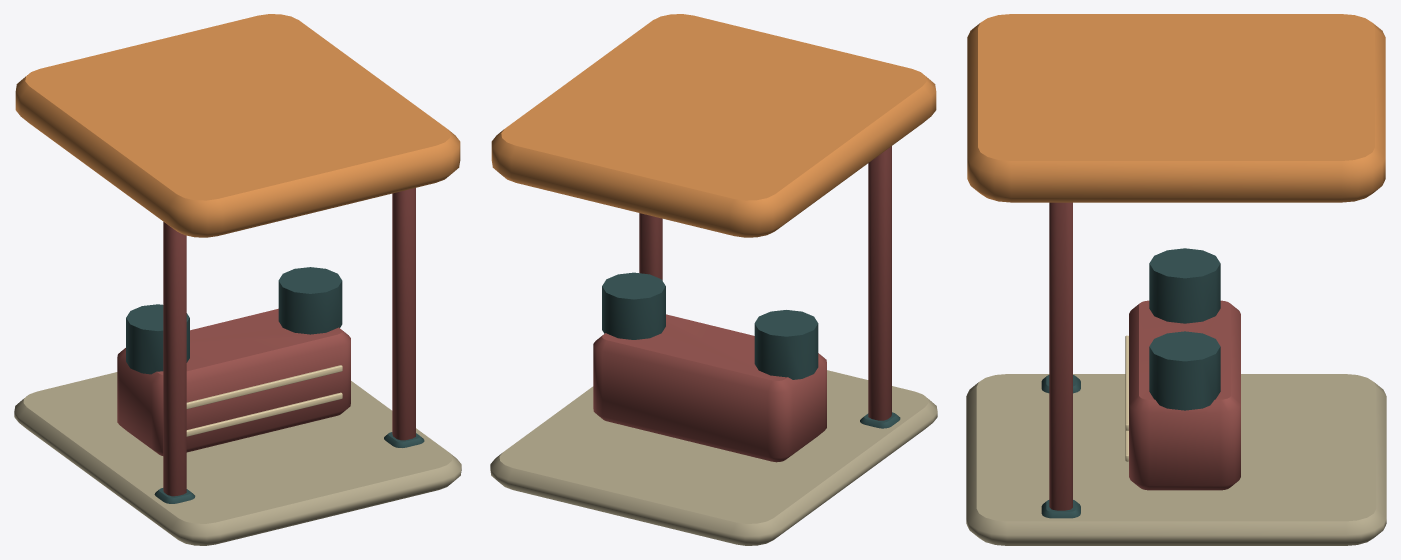
File: route66_restoration_2.glb
3 views of the same model, side by side, from view 1: azimuth 30°, elevation 25°; view 2: azimuth 150°, elevation 25°; view 3: azimuth 270°, elevation 25° (orthographic). The views are drawn at different scales.
Parts seen in each view (by area): view 1: Route66Restoration2; view 2: Route66Restoration2; view 3: Route66Restoration2.
Boxes of the visible parts, x1=… form: Route66Restoration2: x1=14, y1=14, x2=461, y2=545; Route66Restoration2: x1=490, y1=14, x2=937, y2=545; Route66Restoration2: x1=966, y1=14, x2=1386, y2=545.
Size of the model in its own units: 2.18 by 2.51 by 2.48.
